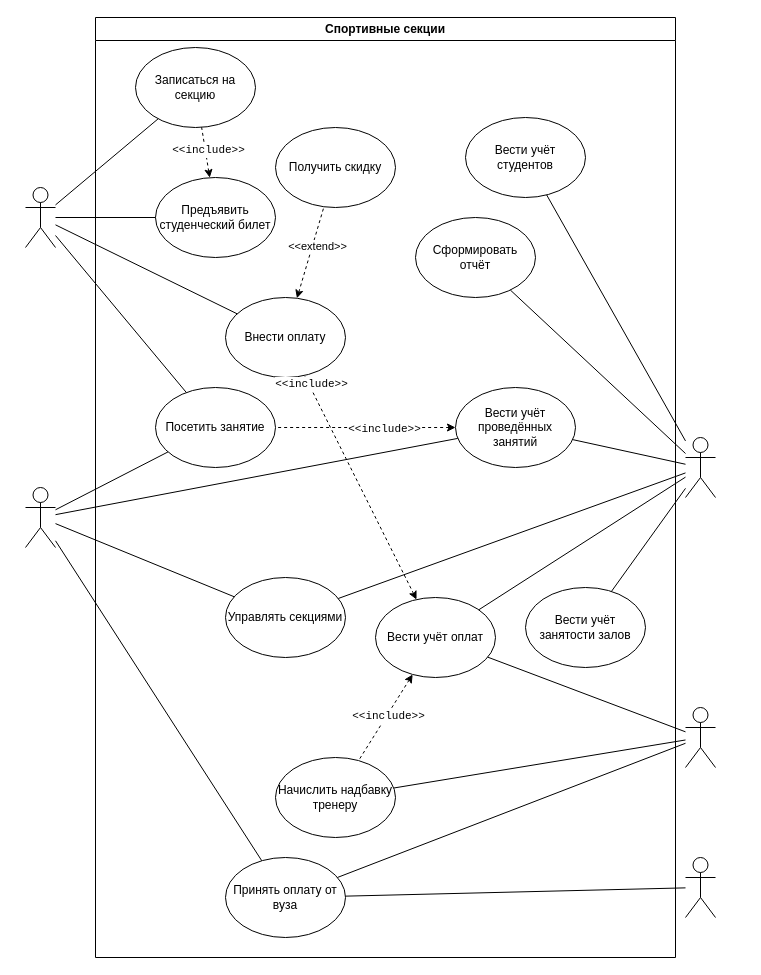
Image size: 761x975. Some labels were removed from this diagram. Each missing label, with the box of its shape:
Администратор: (684, 436, 716, 498)
Бухгалтерия: (684, 706, 716, 768)
Вуз: (684, 856, 716, 918)
Студент: (24, 186, 56, 248)
Тренер: (24, 486, 56, 548)
